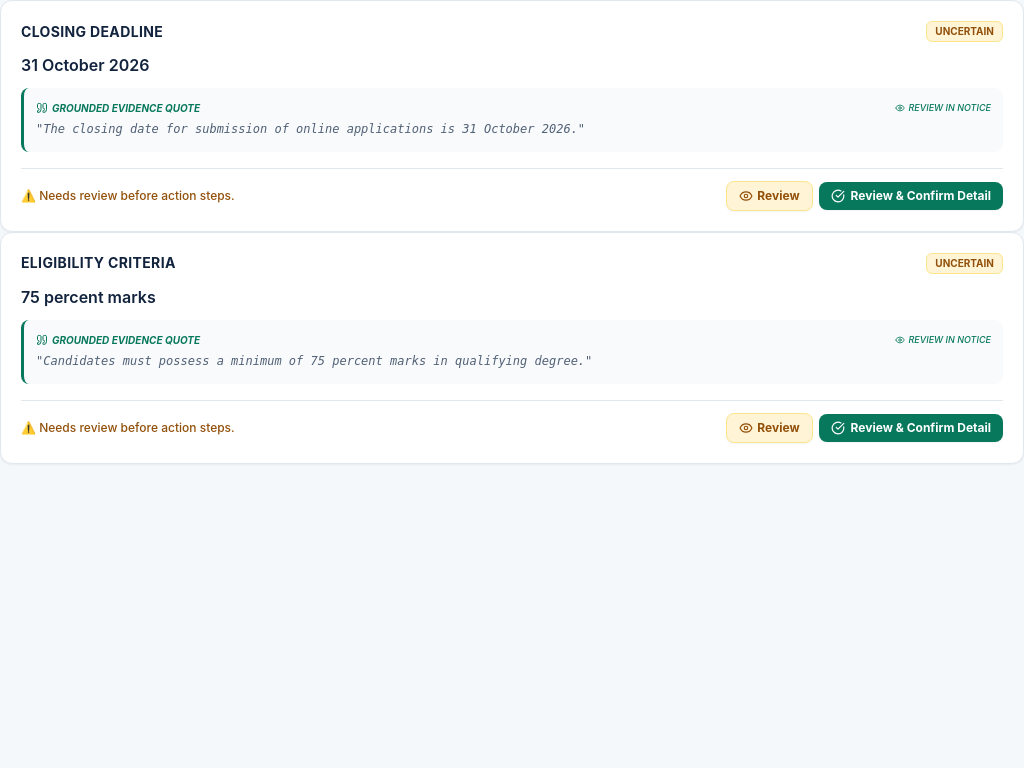
Test: Click-to-Review Red Underline for OCR Notice Text › navigates to original notice preview and renders red underline when clicking Review on a flagged field
The width and height of the screenshot is (1024, 768).
// Click Review for deadline
Click the button with test id "review-btn-deadline": coordinates (769, 196) [726, 181, 813, 211]
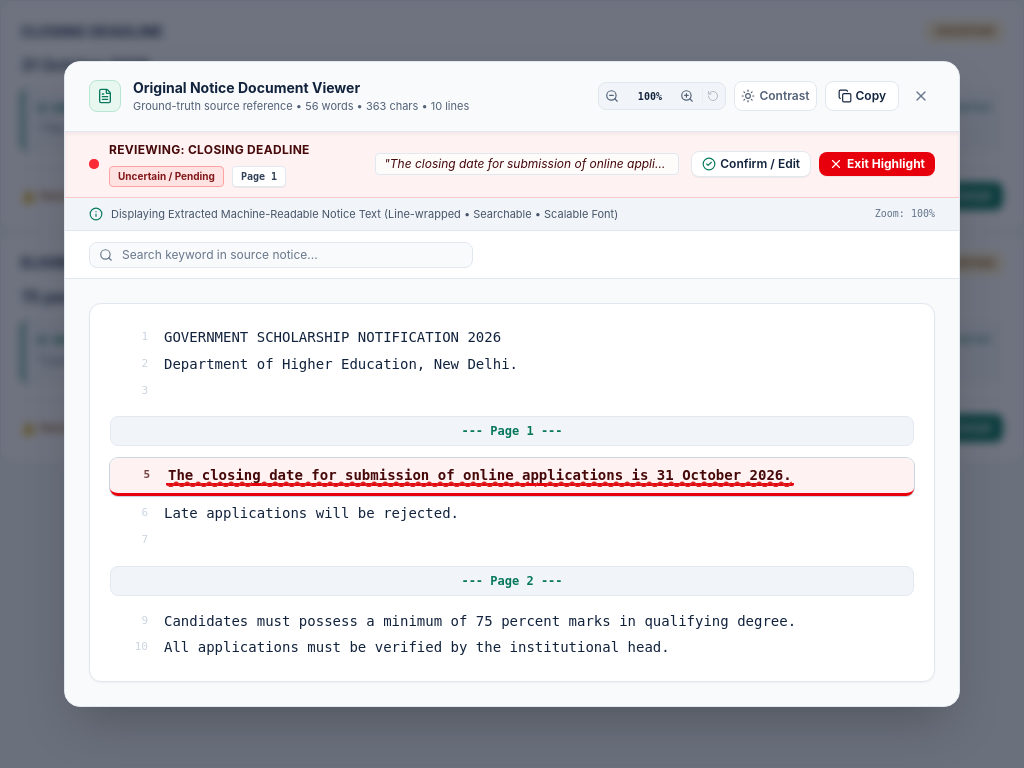
Expected: the element with test id "review-highlight-bar" is shown, [65, 132, 959, 198]
Expected: the text "Reviewing: Closing Deadline" is shown, [109, 142, 310, 158]
Expected: the text with test id "text-red-underline-highlight" is shown, [166, 467, 794, 486]
